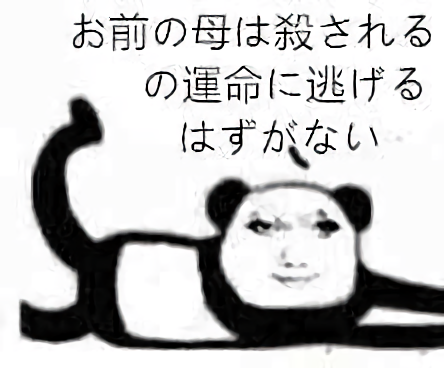dragon: (243, 210, 346, 288)
